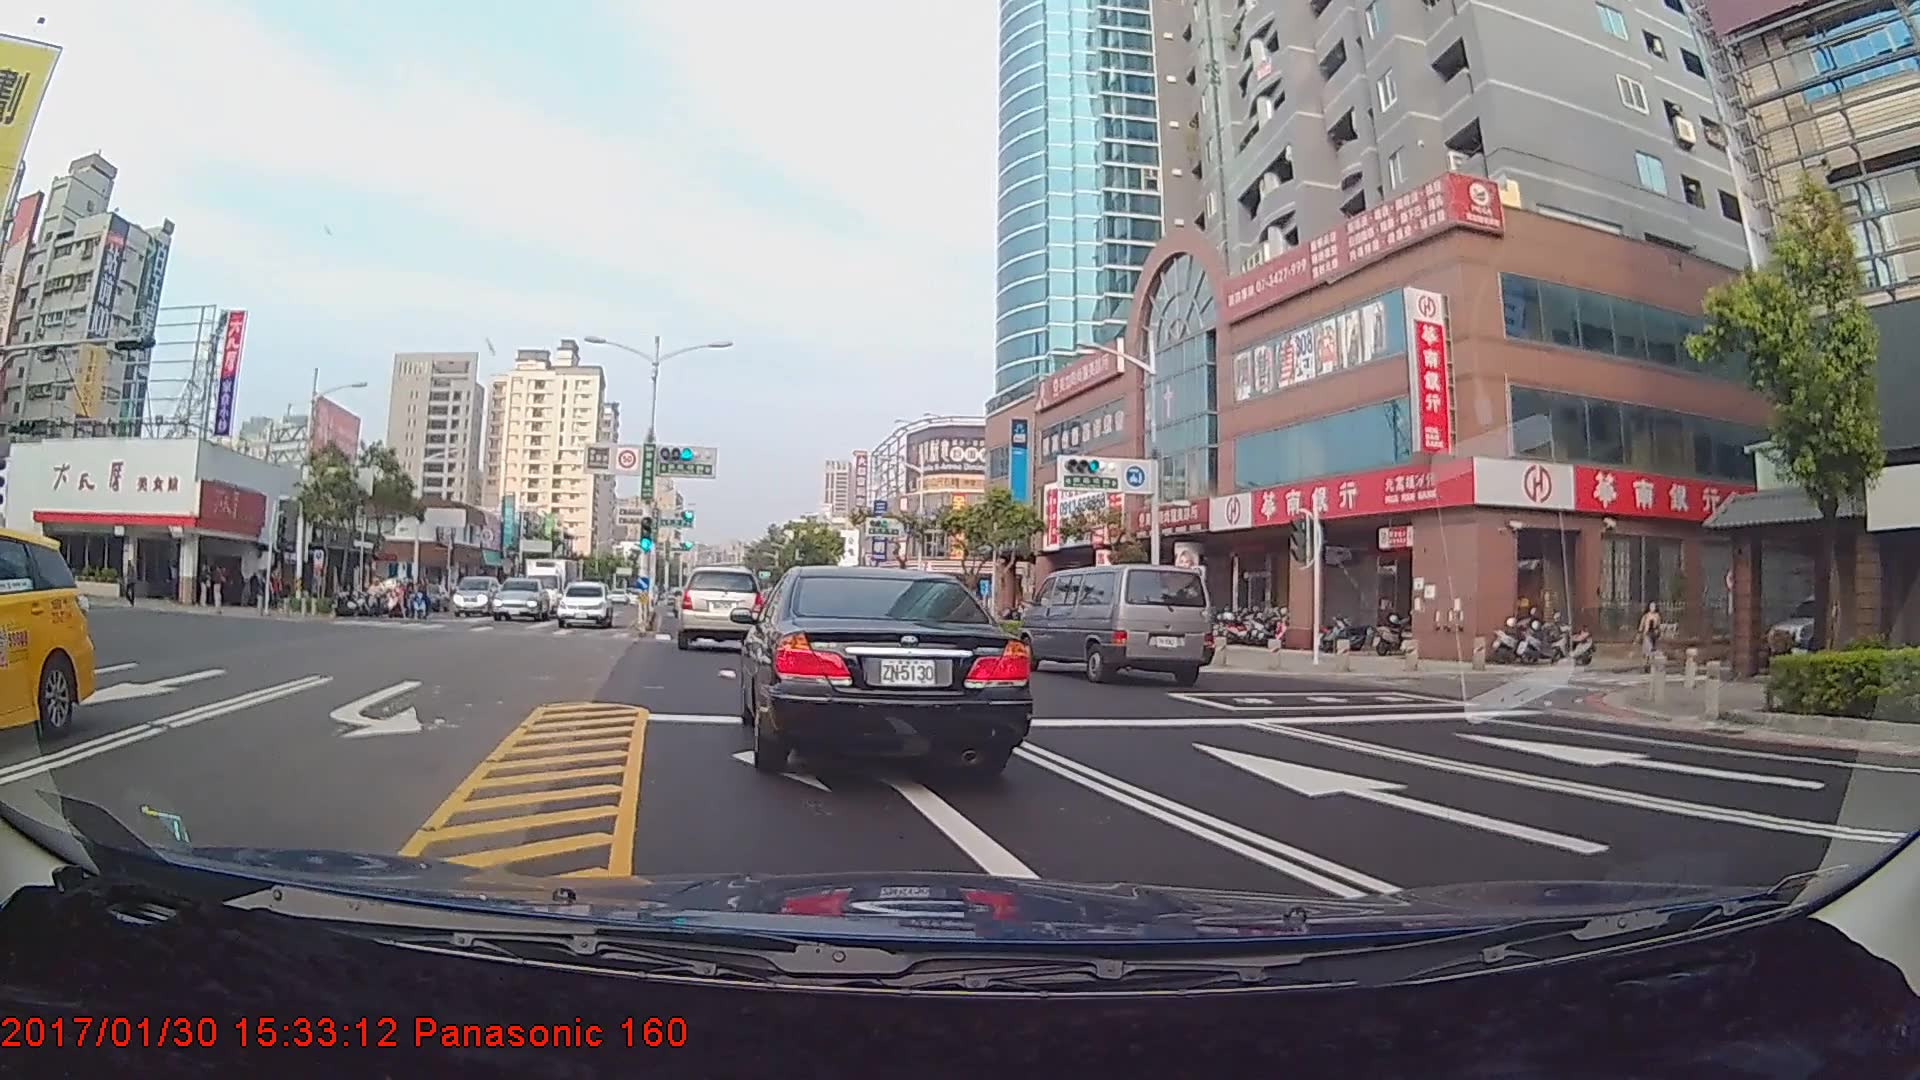pedestrian: (1639, 597, 1661, 663), (195, 557, 215, 607), (122, 559, 142, 608), (210, 561, 230, 609)
vehicle: (744, 558, 1025, 773), (1020, 561, 1212, 684), (0, 523, 90, 741), (674, 564, 764, 648), (529, 549, 583, 615), (491, 577, 553, 623), (558, 580, 613, 629), (453, 573, 506, 618)
